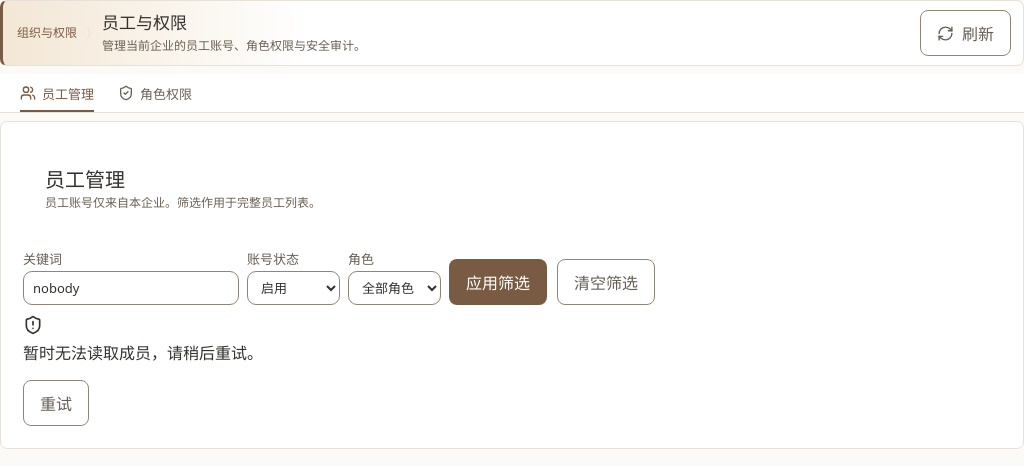
Test: IAM 员工服务端筛选与 URL 闭环 › 展示失败和筛选空态，并允许重试而不丢失 URL
The width and height of the screenshot is (1024, 466).
Expected: the search field labelled "关键词" holds "nobody", [23, 271, 239, 305]
Click the button "重试" at (56, 403), box [23, 380, 89, 426]
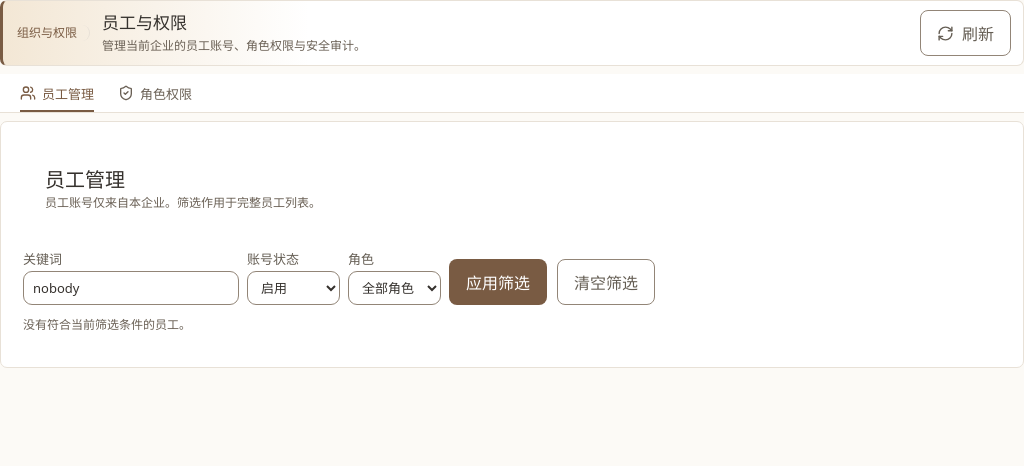
Result: the text "没有符合当前筛选条件的员工。" is shown at [23, 316, 191, 333]
